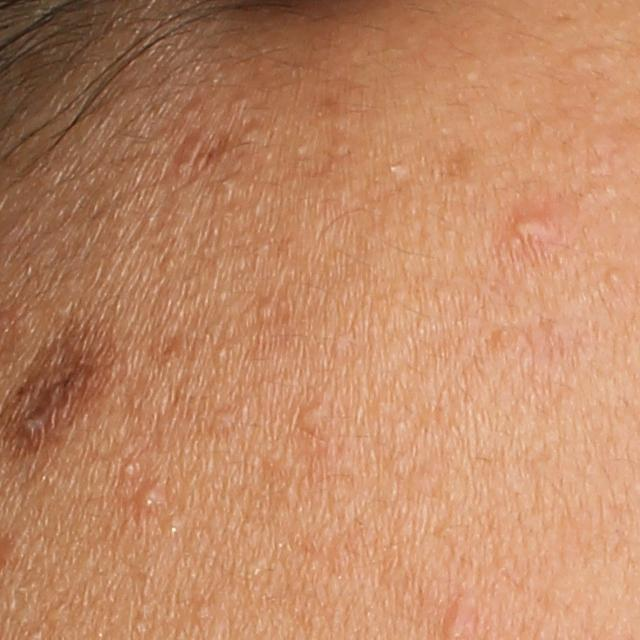comedo: (300, 404, 336, 435), (565, 45, 594, 74), (205, 403, 231, 429), (602, 266, 625, 289), (385, 160, 406, 179), (166, 513, 184, 533)
papule: (506, 204, 556, 249), (132, 485, 159, 510)
